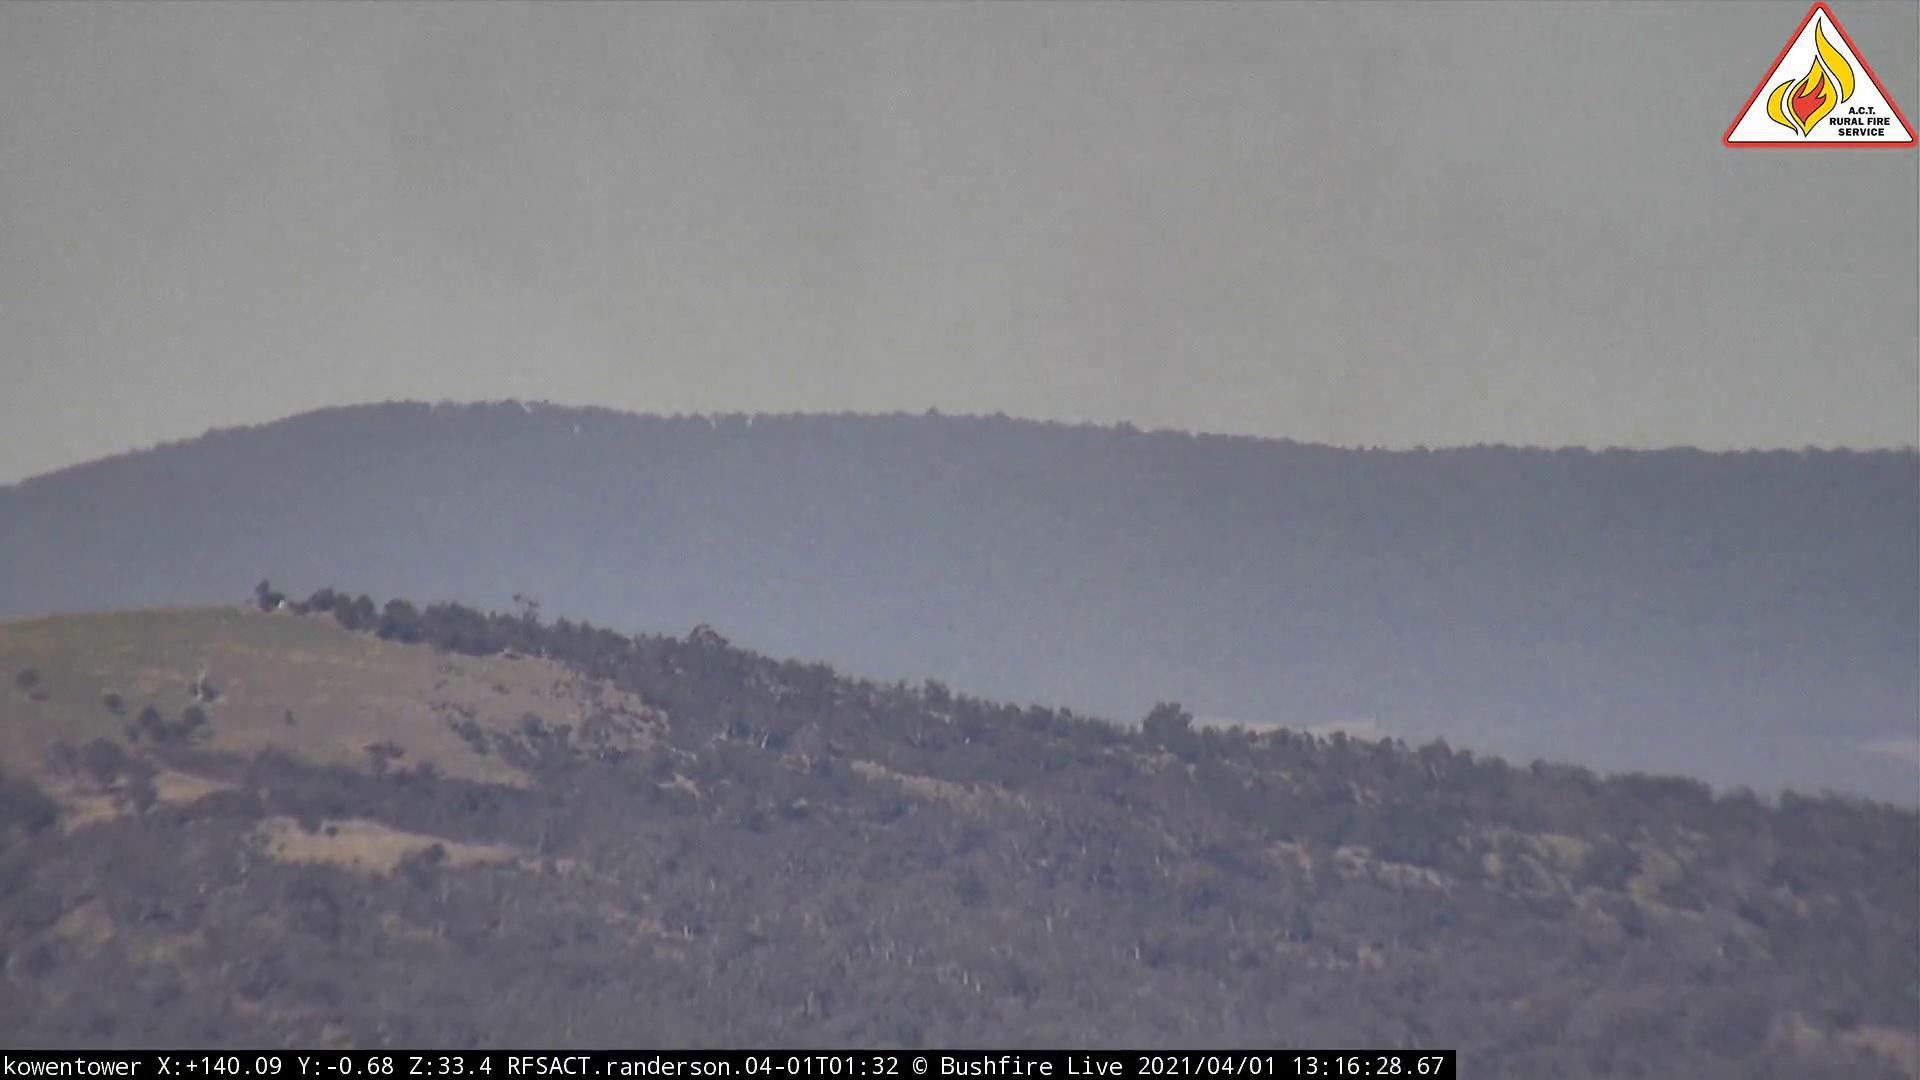Smoke: (397, 18, 1714, 757)
